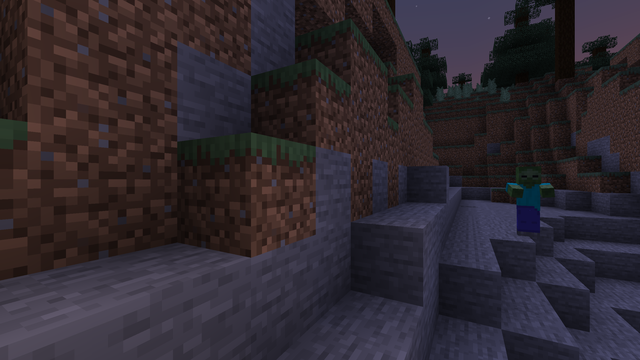zombies: (513, 167, 543, 237)
